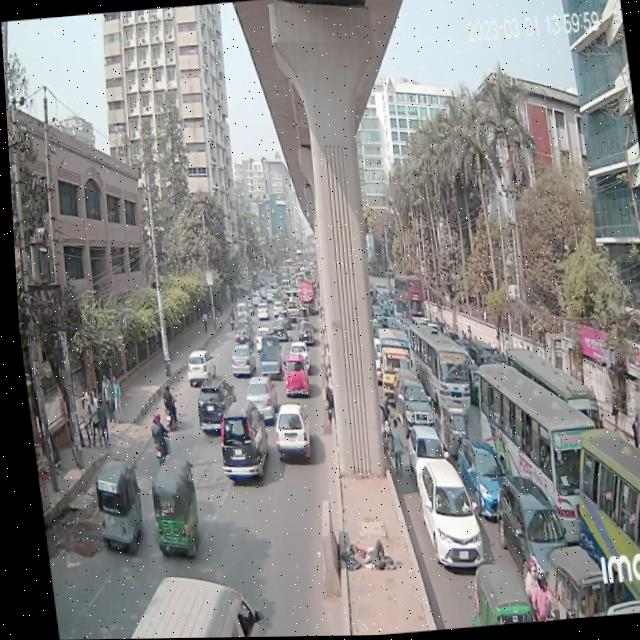cng: (141, 453, 203, 564), (80, 451, 143, 560)
